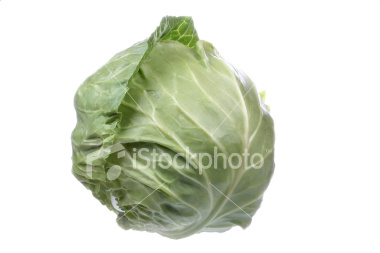cabbage: (70, 14, 277, 240)
